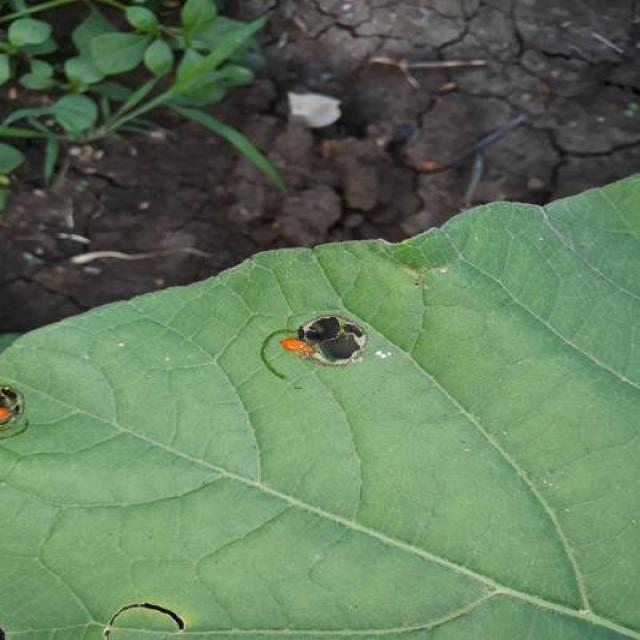Pumpkin Beetle: (258, 312, 384, 379), (94, 590, 196, 640), (0, 376, 46, 441)
